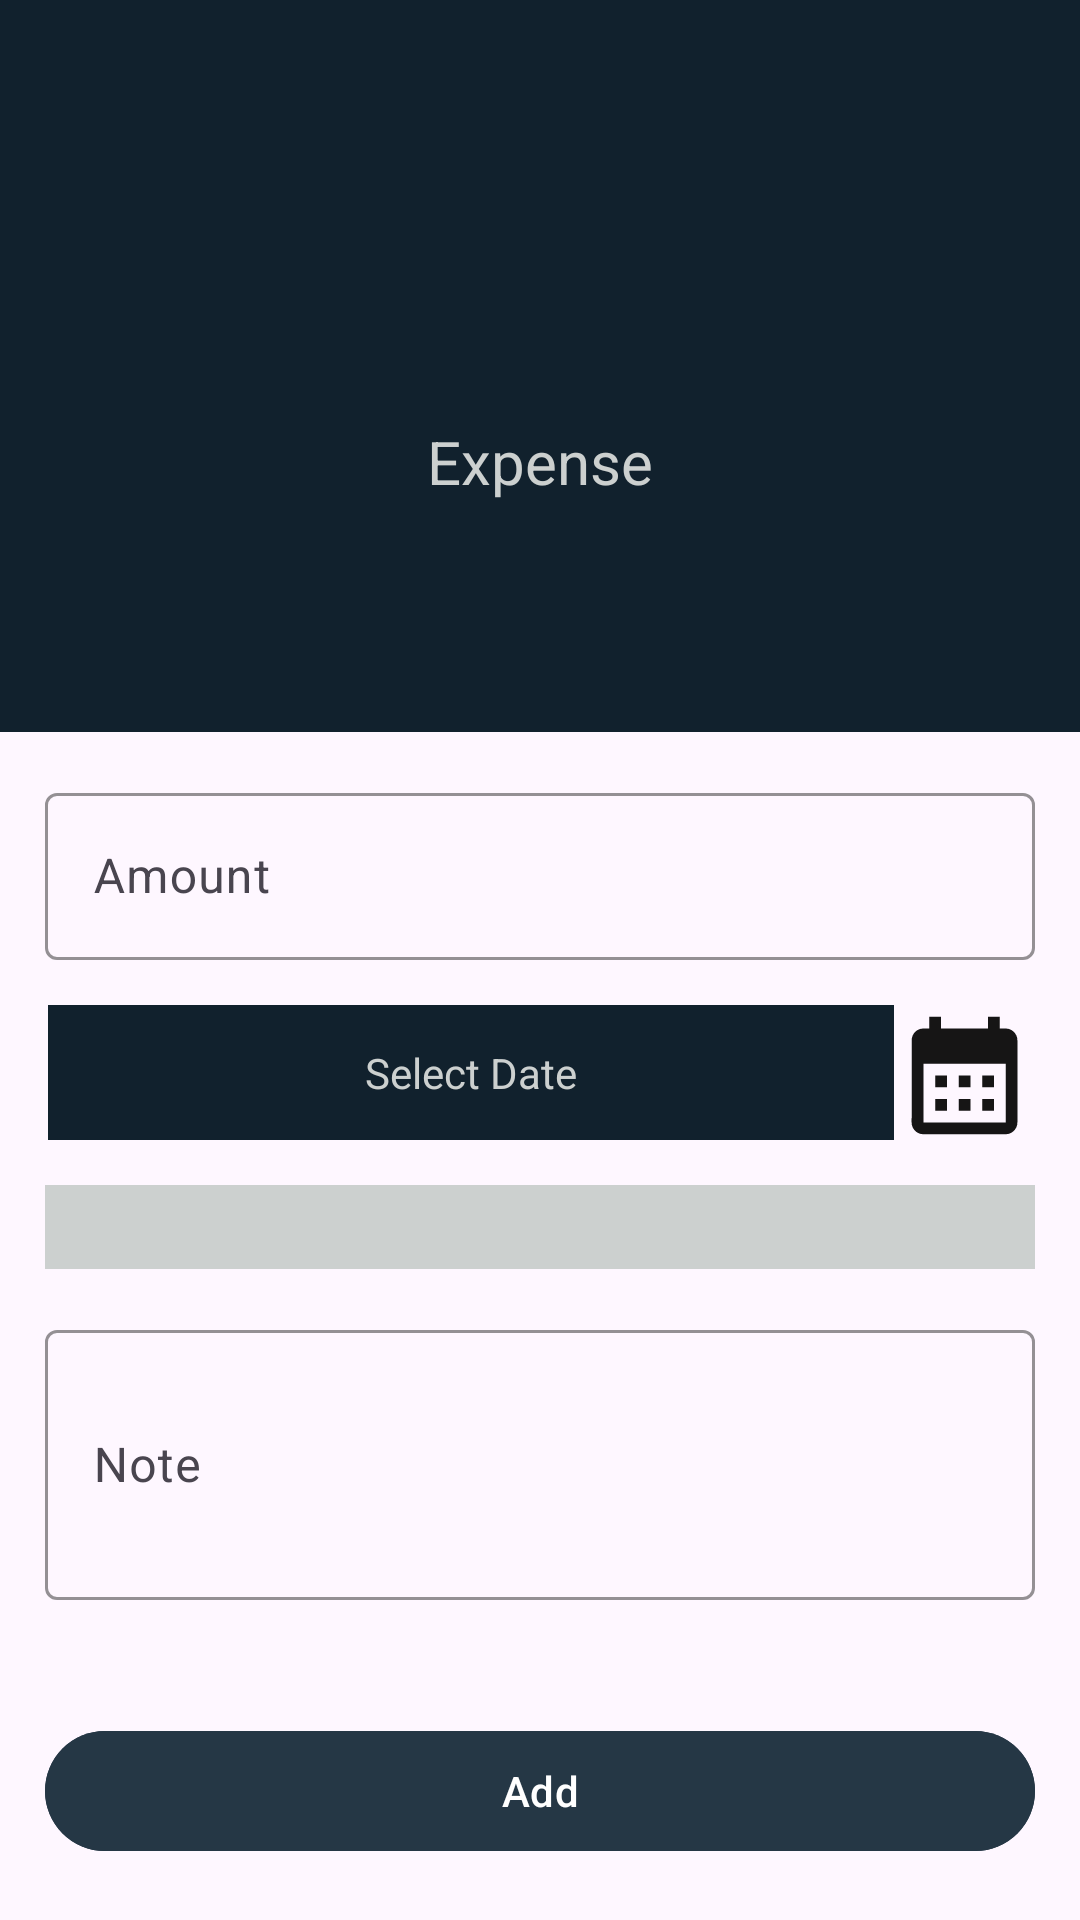

Point at icon controls on the screen. Image size 1080px x 1920px, points as point (x, y).
calendar month: point (964, 1075)
